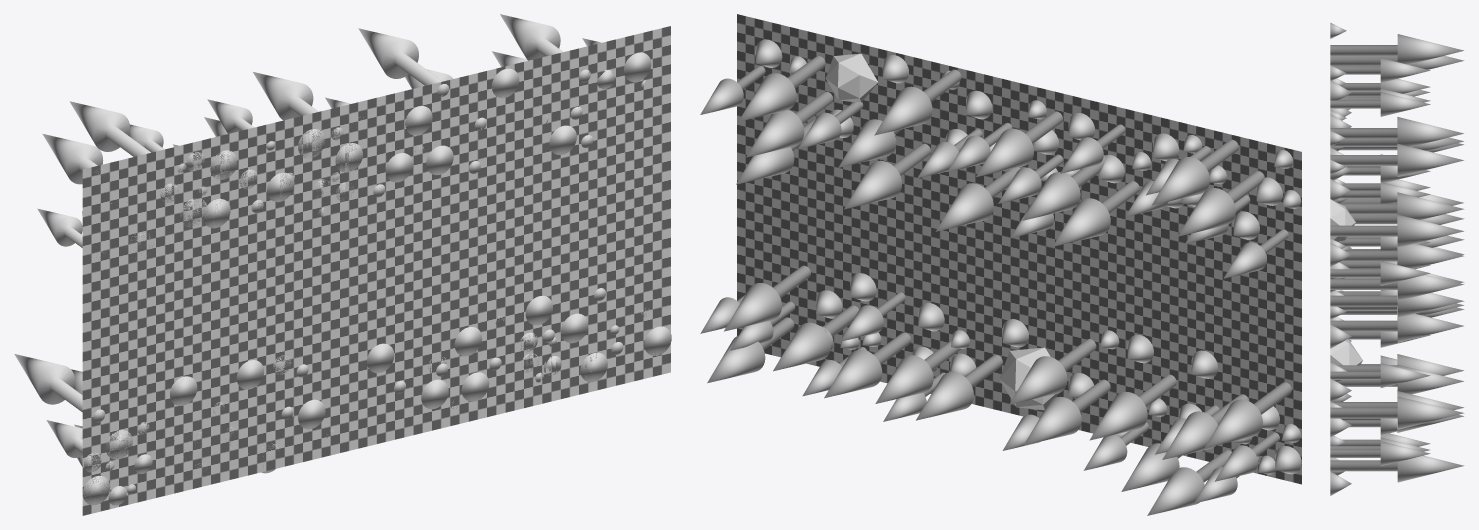
Rendered from forest11.dae.
The picture shows the model from 3 angles, left to right: view 1: azimuth 30°, elevation 25°; view 2: azimuth 150°, elevation 25°; view 3: azimuth 270°, elevation 25°; orthographic projection. The views are drawn at different scales.
Visible parts, largest first — view 1: Plane.009, Cone.491, Cone.541, Cone.463, Cone.483, Cone.492, Cone.469, Cone.466, Cone.453, Cone.473; view 2: Plane.009, Cone.522, Cone.498, Cone.541, Cone.491, Cone.530, Cone.492, Cone.454, Cone.515, Cone.463, Cone.538, Cone.483 (+31 smaller); view 3: Cone.538, Cone.492, Cone.463, Cone.491, Cone.481, Cone.483, Cone.502, Cone.530, Cone.447, Cone.451, Cone.524, Cone.531 (+41 smaller).
Part boxes in pixels (x1=…): Plane.009: x1=82, y1=26, x2=670, y2=515; Cone.491: x1=358, y1=28, x2=449, y2=96; Cone.541: x1=14, y1=354, x2=104, y2=422; Cone.463: x1=69, y1=101, x2=150, y2=156; Cone.483: x1=253, y1=72, x2=343, y2=140; Cone.492: x1=500, y1=14, x2=590, y2=82; Cone.469: x1=42, y1=133, x2=103, y2=184; Cone.466: x1=37, y1=208, x2=103, y2=257; Cone.453: x1=207, y1=99, x2=275, y2=150; Cone.473: x1=46, y1=420, x2=114, y2=471; Plane.009: x1=737, y1=14, x2=1301, y2=484; Cone.522: x1=844, y1=143, x2=931, y2=209; Cone.498: x1=824, y1=332, x2=911, y2=398; Cone.541: x1=1205, y1=382, x2=1291, y2=447; Cone.491: x1=874, y1=69, x2=961, y2=135; Cone.530: x1=1009, y1=339, x2=1096, y2=404; Cone.492: x1=738, y1=56, x2=825, y2=121; Cone.454: x1=1089, y1=374, x2=1176, y2=440; Cone.515: x1=1052, y1=181, x2=1139, y2=246; Cone.463: x1=1151, y1=139, x2=1238, y2=205; Cone.538: x1=724, y1=265, x2=810, y2=331; Cone.483: x1=976, y1=111, x2=1062, y2=177; Cone.538: x1=1330, y1=396, x2=1464, y2=429; Cone.492: x1=1330, y1=214, x2=1463, y2=247; Cone.463: x1=1330, y1=34, x2=1463, y2=64; Cone.491: x1=1330, y1=143, x2=1463, y2=176; Cone.481: x1=1330, y1=313, x2=1463, y2=342; Cone.483: x1=1330, y1=117, x2=1463, y2=146; Cone.502: x1=1330, y1=455, x2=1464, y2=482; Cone.530: x1=1330, y1=293, x2=1464, y2=317; Cone.447: x1=1340, y1=192, x2=1464, y2=219; Cone.451: x1=1341, y1=239, x2=1463, y2=268; Cone.524: x1=1330, y1=274, x2=1464, y2=301; Cone.531: x1=1338, y1=364, x2=1463, y2=394.
Bounding box in the file's own units: 64.26 × 16 × 37.96.
